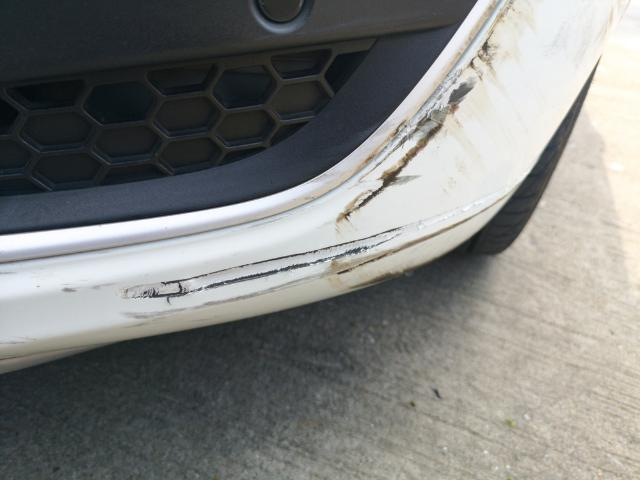scratch: (110, 7, 524, 325)
